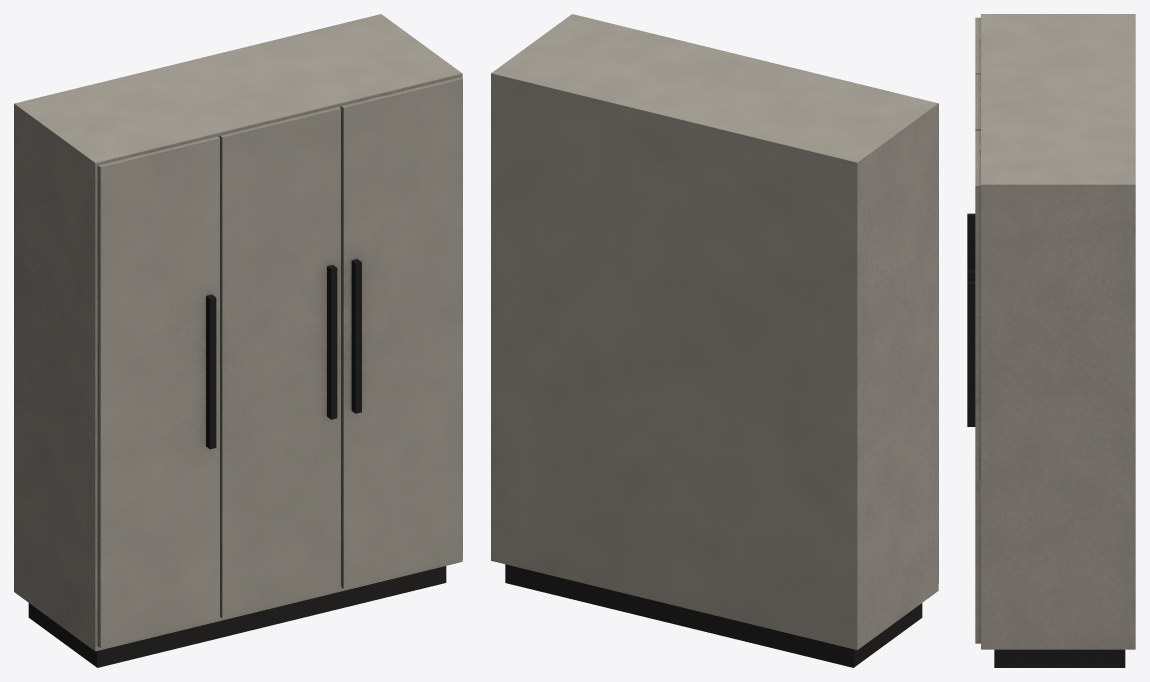
The model's file is H_Wardrobe.fbx.
The picture shows the model from 3 angles, left to right: view 1: azimuth 30°, elevation 25°; view 2: azimuth 150°, elevation 25°; view 3: azimuth 270°, elevation 25°; orthographic projection. The views are drawn at different scales.
Parts seen in each view (by area): view 1: H_Wardrobe; view 2: H_Wardrobe; view 3: H_Wardrobe.
Boxes of the visible parts, x1,y1,x2,y2 form: H_Wardrobe: (14, 14, 462, 667); H_Wardrobe: (491, 14, 938, 667); H_Wardrobe: (967, 14, 1135, 667).
Bounding box in the file's own units: 600 × 800 × 250.
Materials: 1 (1 with a texture image).
